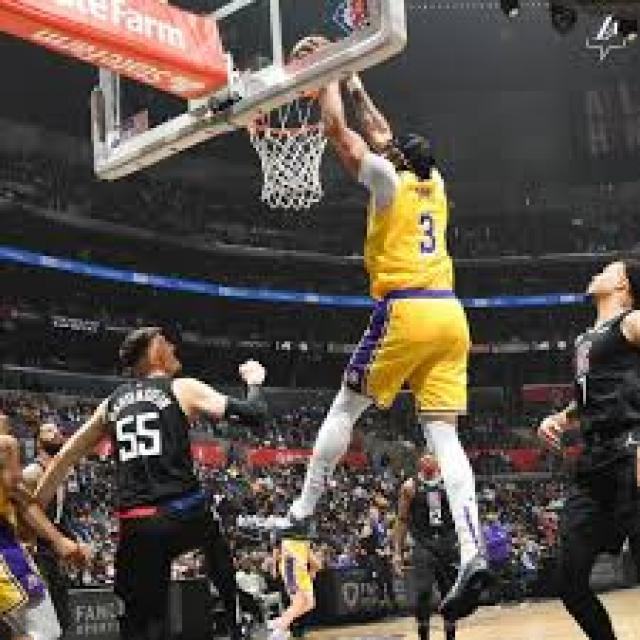rim: (292, 34, 338, 94)
